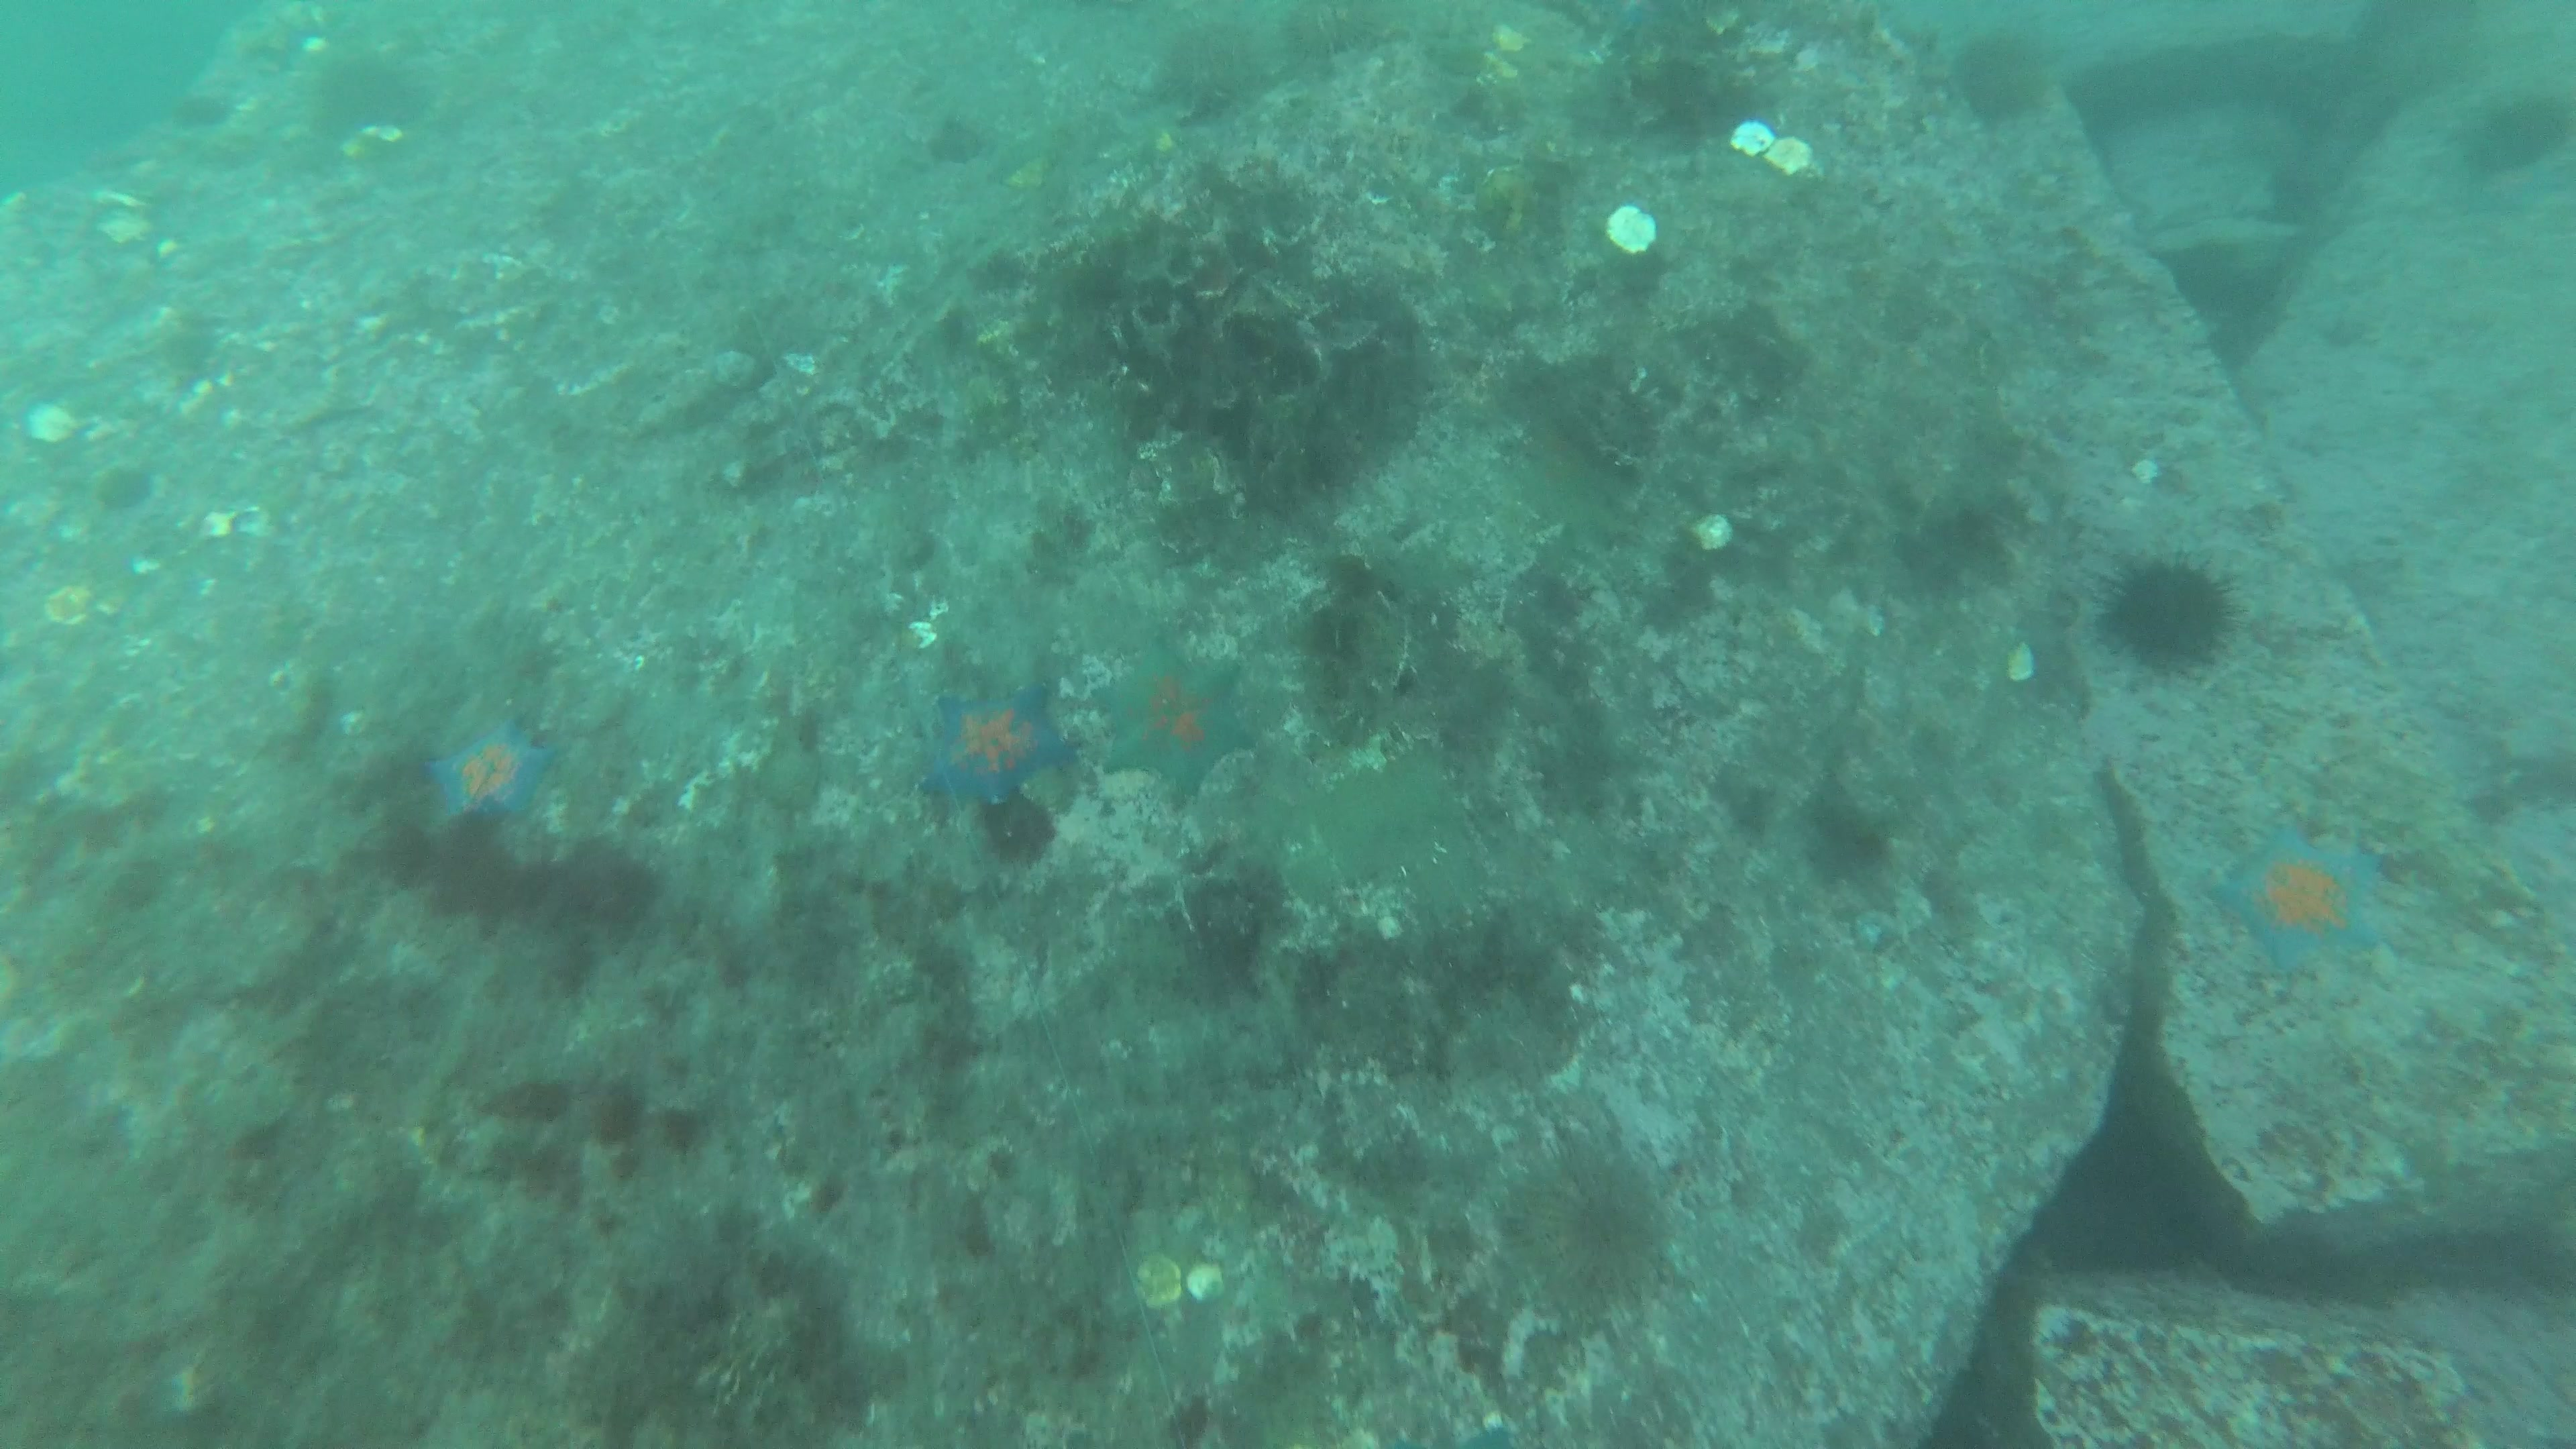echinus: (1500, 1161, 1681, 1322), (2102, 543, 2236, 683), (1946, 14, 2059, 122), (2454, 99, 2567, 170)
starfish: (2219, 819, 2401, 982), (1090, 633, 1247, 805), (916, 685, 1072, 798), (430, 731, 550, 824)
